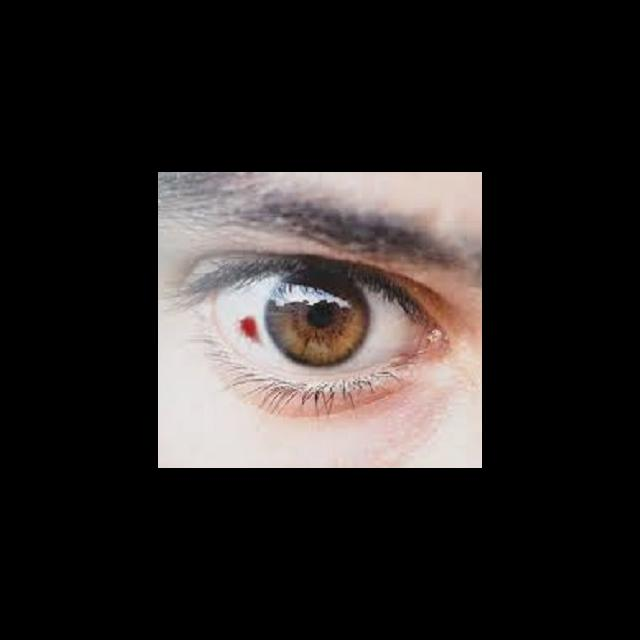eye: (214, 265, 423, 378)
iris: (269, 268, 371, 367)
